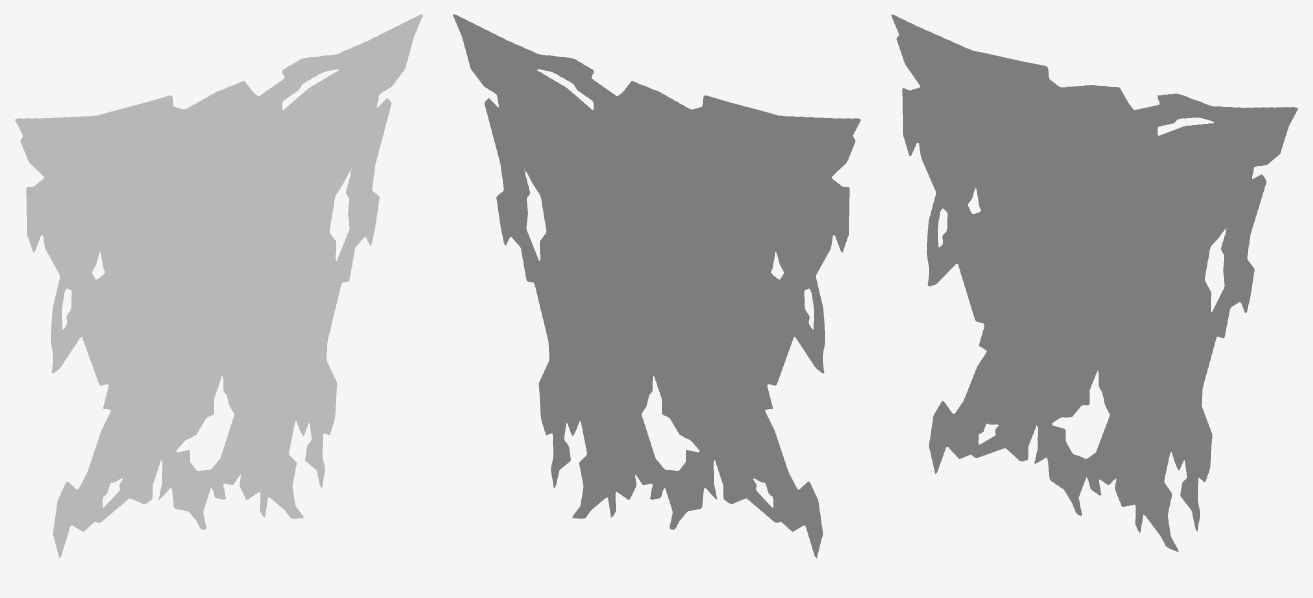
Rendered from SM_Prop_Flag_08.fbx.
3 views of the same model, side by side, from view 1: azimuth 30°, elevation 25°; view 2: azimuth 150°, elevation 25°; view 3: azimuth 330°, elevation 25° (orthographic).
Parts seen in each view (by area): view 1: SM_Prop_Flag_08; view 2: SM_Prop_Flag_08; view 3: SM_Prop_Flag_08.
Boxes of the visible parts, x1,y1,x2,y2 form: SM_Prop_Flag_08: [15, 14, 422, 558]; SM_Prop_Flag_08: [453, 14, 860, 558]; SM_Prop_Flag_08: [891, 14, 1297, 552].
Size of the model in its own units: 123 by 143 by 0.
